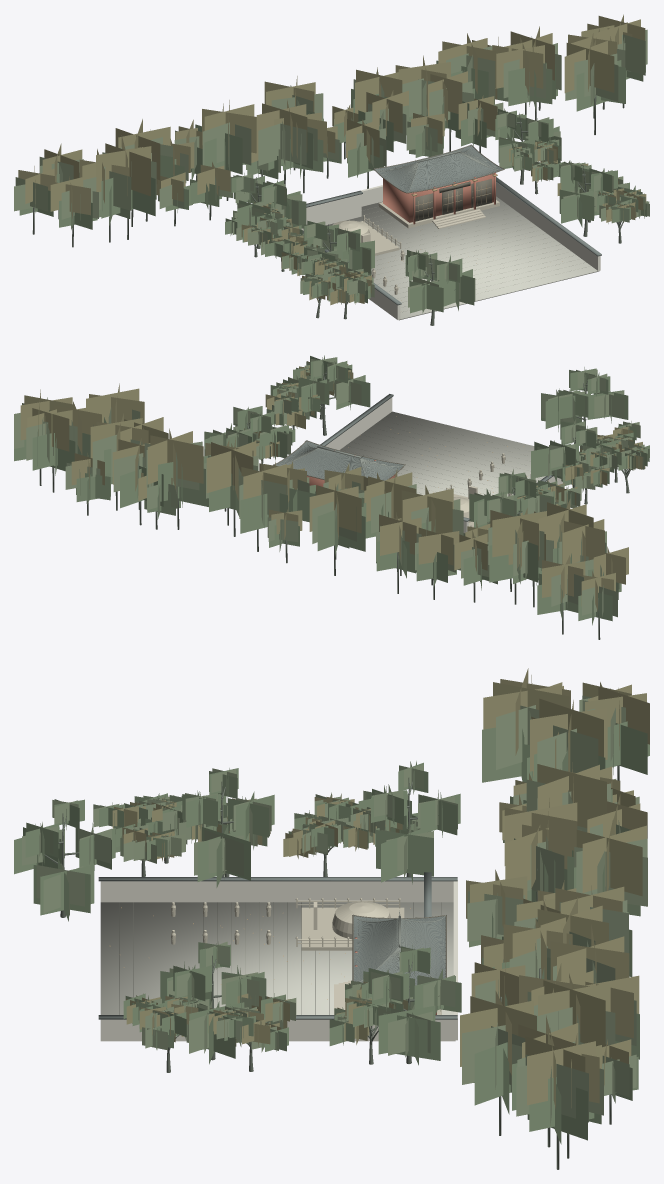
The model's file is yue-fei.glb.
3 views of the same model, one above another, from view 1: azimuth 30°, elevation 25°; view 2: azimuth 150°, elevation 25°; view 3: azimuth 270°, elevation 25° (orthographic). The views are drawn at different scales.
Visible parts, largest first — view 1: crown2, crown0, crown1, paving, roof, plaster, ridge, wooddark, redwall, bark, stone, stoneedge; view 2: crown2, crown0, crown1, paving, roof, ridge, bark, plaster, stone; view 3: crown2, crown1, crown0, paving, plaster, roof, stone, ridge, bark, mortar.
Part boxes in pixels (x1,y1,x2,y2): crown2: [18, 14, 646, 305]; crown0: [19, 60, 647, 313]; crown1: [14, 29, 649, 310]; paving: [325, 196, 599, 320]; roof: [302, 145, 601, 305]; plaster: [301, 182, 600, 319]; ridge: [374, 145, 502, 192]; wooddark: [373, 144, 504, 221]; redwall: [383, 173, 495, 224]; bark: [32, 95, 624, 325]; stone: [332, 200, 499, 294]; stoneedge: [361, 209, 485, 242]; crown2: [20, 361, 645, 611]; crown0: [14, 355, 649, 625]; crown1: [14, 357, 645, 617]; paving: [340, 411, 545, 497]; roof: [276, 394, 552, 521]; ridge: [274, 440, 404, 479]; bark: [39, 363, 631, 639]; plaster: [325, 397, 562, 533]; stone: [446, 453, 530, 527]; crown2: [112, 668, 649, 1108]; crown1: [22, 688, 647, 1125]; crown0: [14, 721, 649, 1144]; paving: [100, 902, 453, 1014]; plaster: [100, 880, 457, 1041]; roof: [98, 872, 457, 1019]; stone: [171, 898, 441, 1014]; ridge: [353, 910, 445, 984]; bark: [44, 765, 619, 1169]; mortar: [119, 902, 441, 1014].
Size of what is drawn, in the model's own units: 107 by 15.35 by 68.03.
